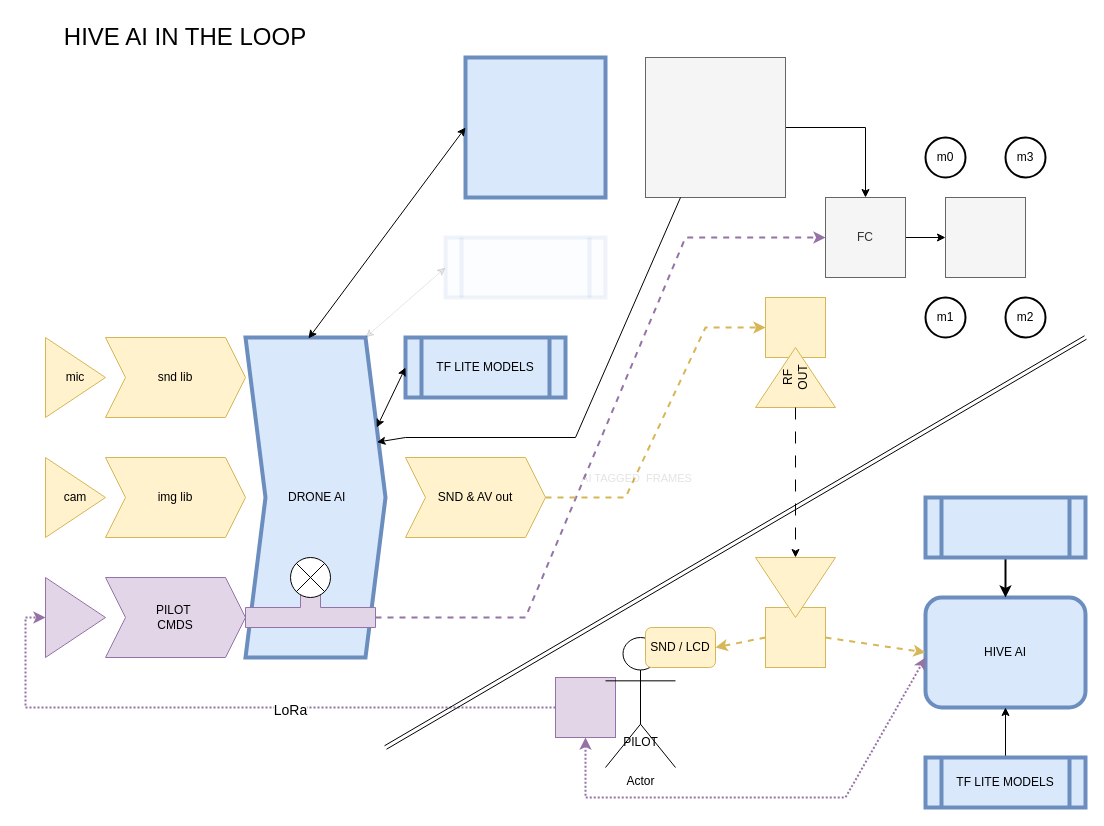
Image size: 1104x826. Some labels were removed from this diagram. The shapes that lost their labels are listed below. From the top down, each one's centre as x and y in pixels, then its label:
[535,127]: SNSORS - AI STRUC LIGHT IMG PROC
[715,127]: SNSORS - HRW IMU GPS BAR COMP
[985,237]: ESC
[525,267]: OBJ. TRACKING
[795,327]: Vtx
[1005,527]: TF MODELS
[795,587]: RF IN
[75,617]: RF - IN
[795,637]: Vrx
